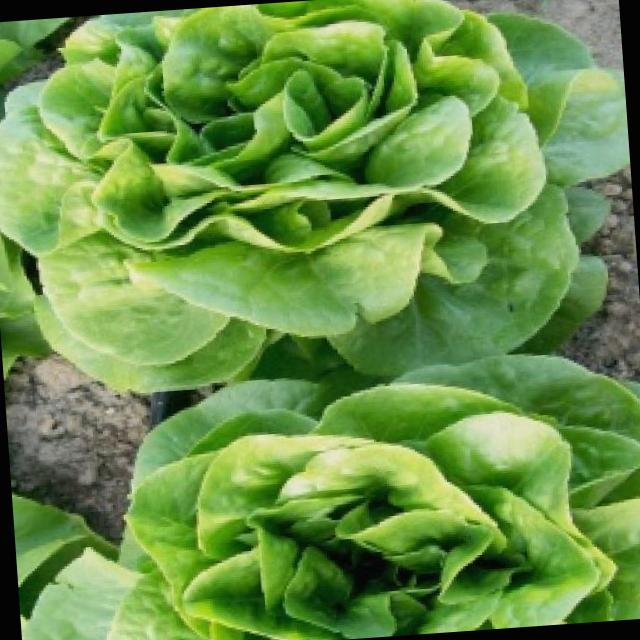Lettuce-Ready-to-Harvest: (0, 0, 630, 391), (25, 354, 640, 640)
